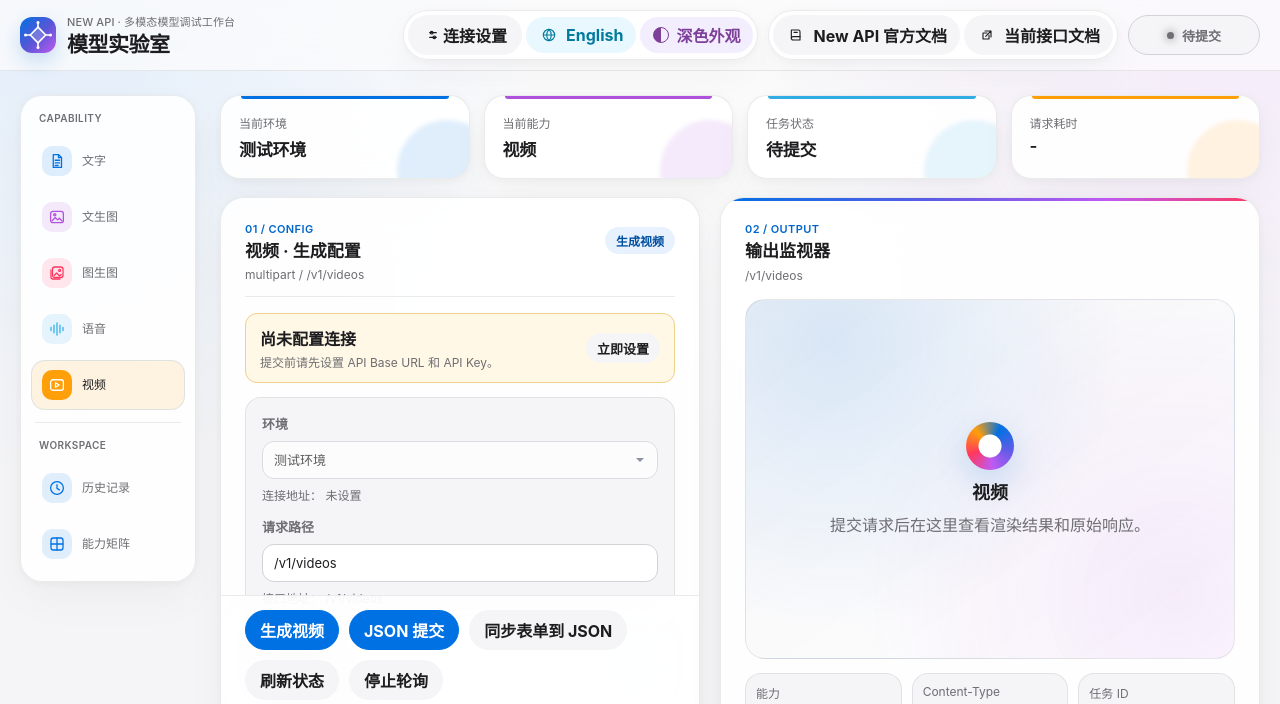
model test platform › uses the light theme by default and persists manual dark theme switching
Click the button with test id "theme-toggle" at (697,35), box [640,17,754,53]
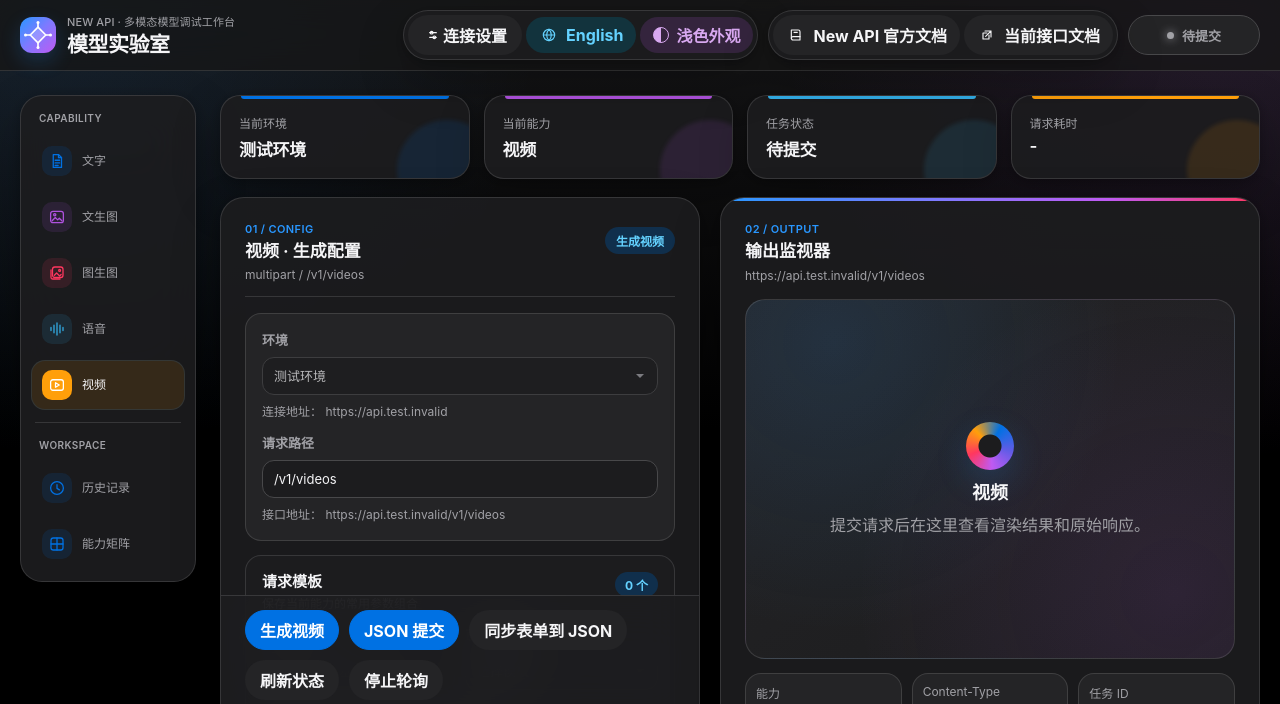
Result: the button with test id "theme-toggle" reads "浅色外观" at [640,17,754,53]
